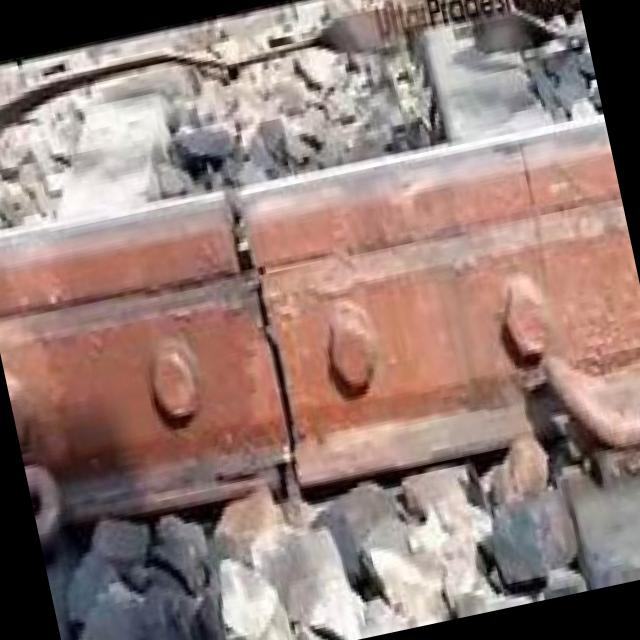defective: (17, 15, 640, 587)
